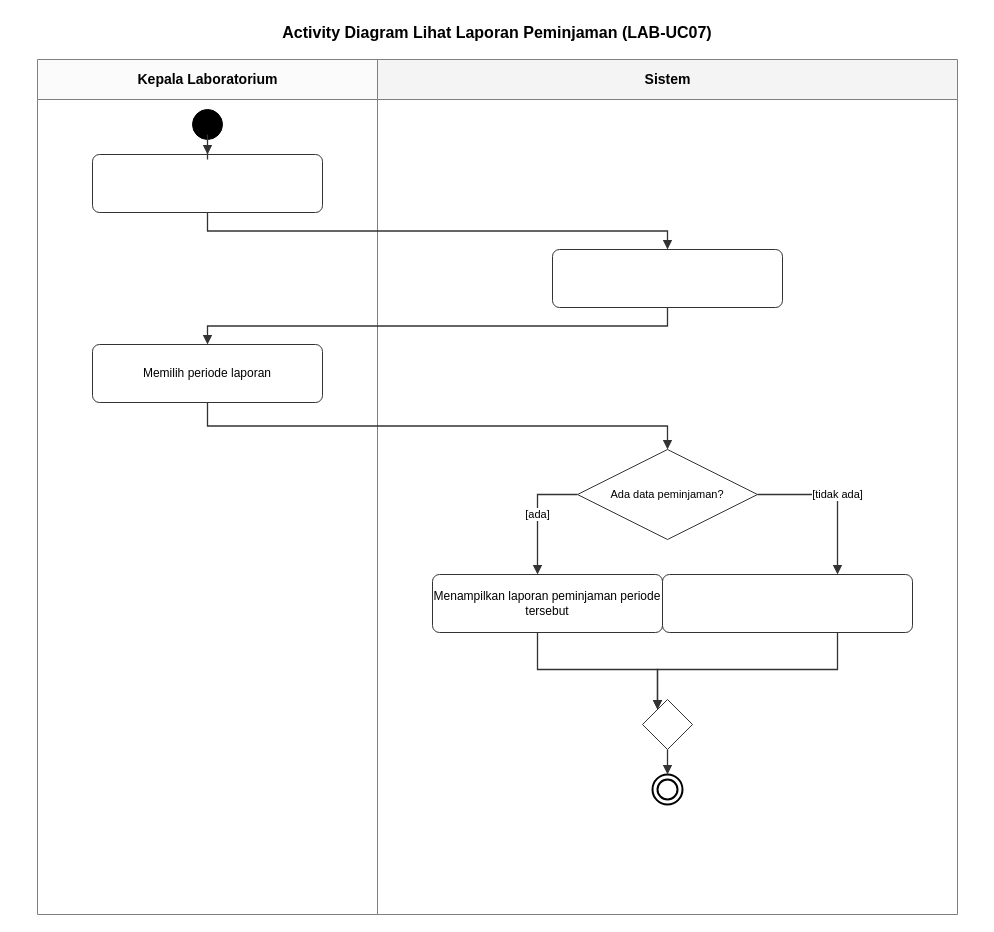
The diagram is 994 pixels wide and 932 high, and some of its shapes have lost their labels. The shapes that lost their labels are listed below. From the top down, each one's centre as x and y in pixels, then its label:
(207,183): Membuka fungsi Lihat Laporan Peminjaman
(667,278): Menampilkan daftar periode laporan
(787,603): Menampilkan pesan tidak ada data peminjaman pada periode tersebut
